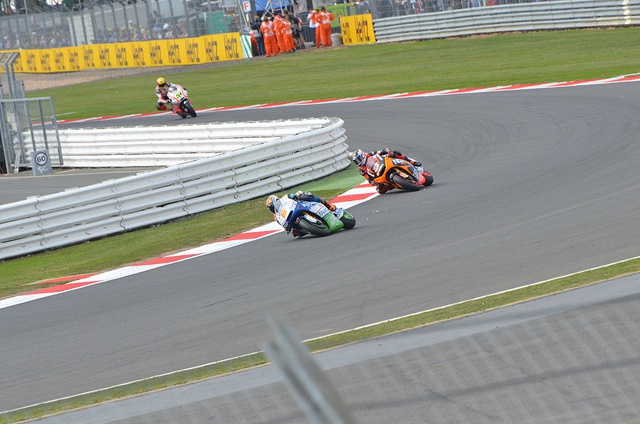non-vehicle: (273, 197, 357, 240), (361, 148, 435, 190), (166, 84, 196, 118)
